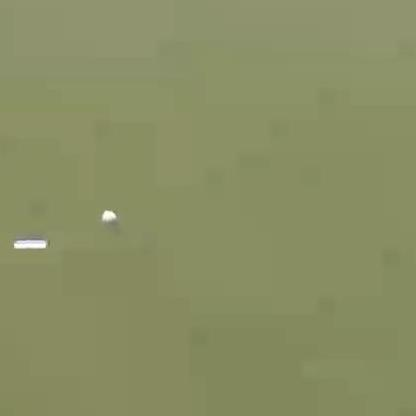golfball: (99, 206, 114, 221)
